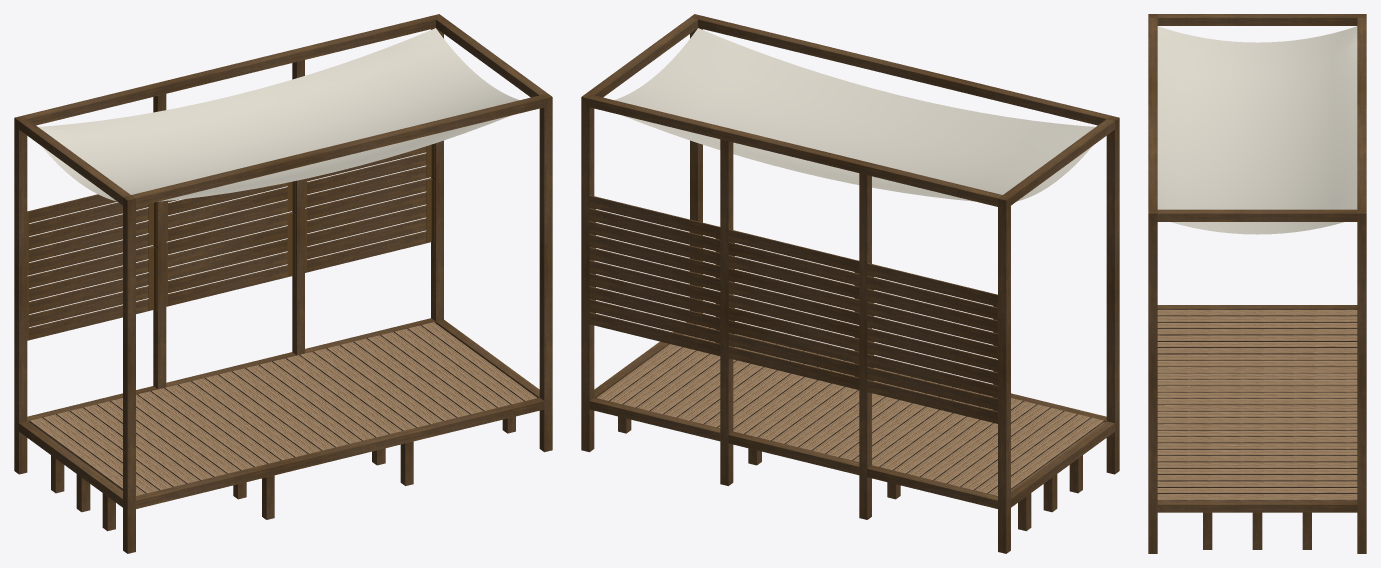
Rendered from niwaterasconbi_w3900-D1800_darkpine.fbx.
3 renders of one model, left to right at view 1: azimuth 30°, elevation 25°; view 2: azimuth 150°, elevation 25°; view 3: azimuth 270°, elevation 25°, orthographic. The views are drawn at different scales.
Visible parts, largest first — view 1: niwaterasconbi_w3900-D1800_darkwood2; view 2: niwaterasconbi_w3900-D1800_darkwood2; view 3: niwaterasconbi_w3900-D1800_darkwood2.
Boxes of the visible parts, x1,y1,x2,y2 form: niwaterasconbi_w3900-D1800_darkwood2: (14, 14, 552, 553); niwaterasconbi_w3900-D1800_darkwood2: (581, 14, 1119, 553); niwaterasconbi_w3900-D1800_darkwood2: (1148, 14, 1366, 553).
Size of the model in its own units: 390 by 310 by 180.
5 materials, 4 textured.
